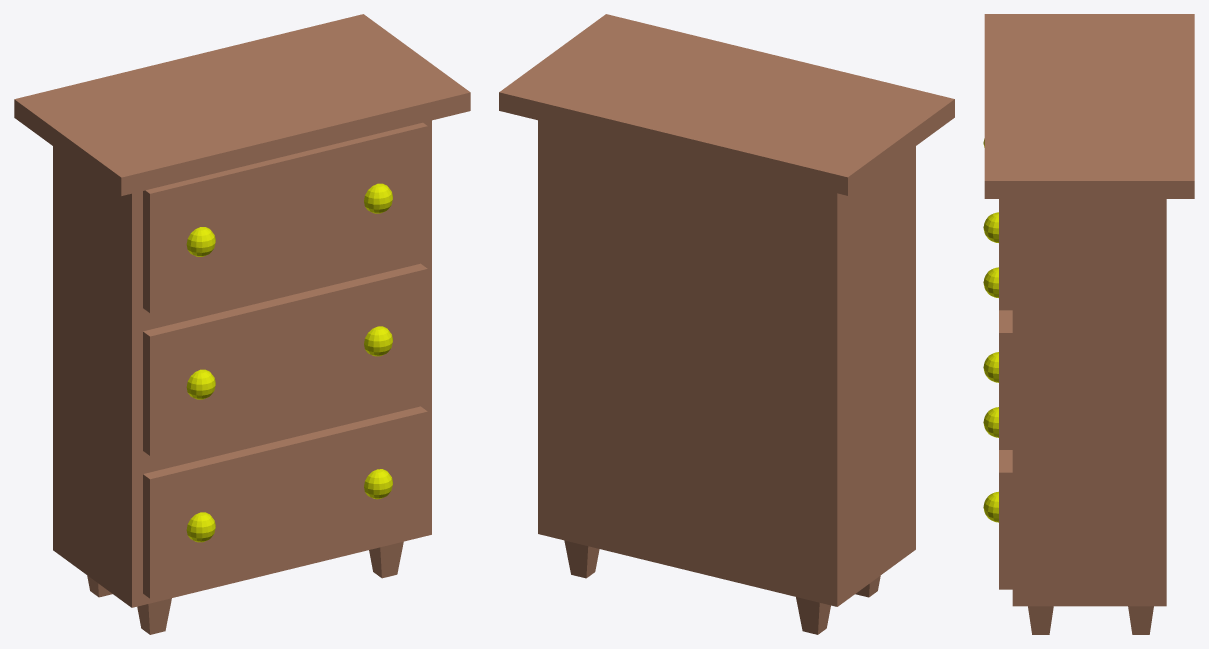
File: Cabinet.fbx
The picture shows the model from 3 angles, left to right: view 1: azimuth 30°, elevation 25°; view 2: azimuth 150°, elevation 25°; view 3: azimuth 270°, elevation 25°; orthographic projection. The views are drawn at different scales.
Visible parts, largest first — view 1: Cube; view 2: Cube; view 3: Cube.
Boxes of the visible parts, box(x1,y1,x2,y2) form: Cube: box(14, 14, 470, 634); Cube: box(499, 14, 954, 634); Cube: box(983, 14, 1194, 634).
Bounding box in the file's own units: 5.12 × 6.84 × 2.74.
